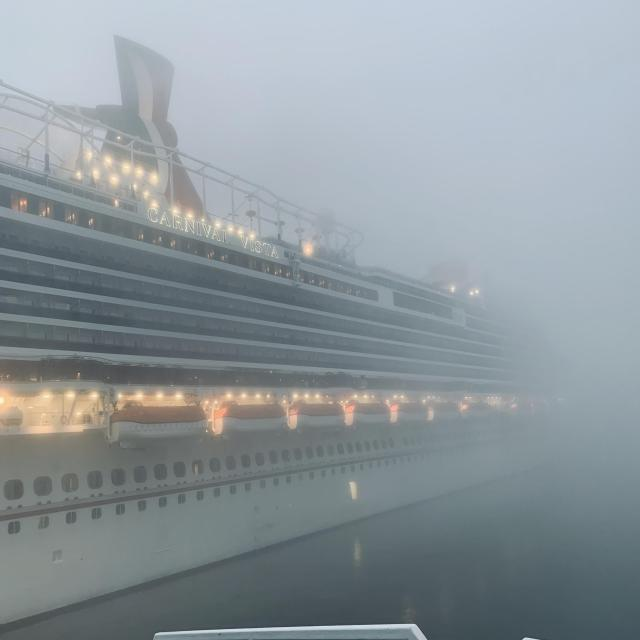passenger ship: (0, 60, 614, 606)
